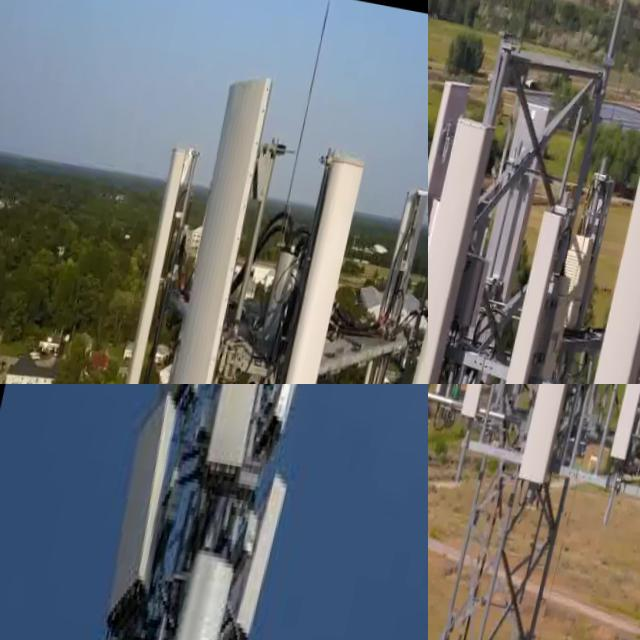GSM Antenna: (130, 59, 293, 384), (224, 140, 374, 384), (88, 384, 199, 640), (467, 84, 564, 357), (115, 135, 203, 384), (428, 103, 505, 384), (556, 154, 640, 384), (485, 194, 570, 384), (518, 384, 621, 502), (229, 468, 298, 640), (428, 76, 472, 308), (389, 142, 428, 384), (145, 542, 240, 640), (190, 384, 274, 482), (458, 384, 528, 432)
